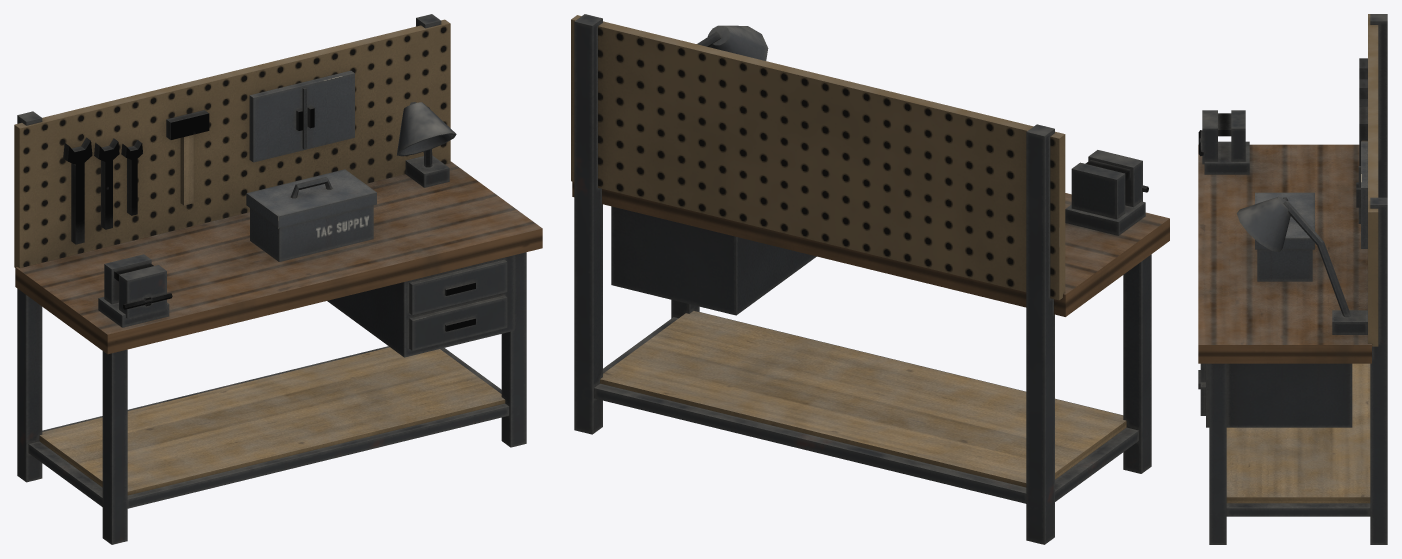
The model's file is W2_Workbench.fbx.
3 renders of one model, left to right at view 1: azimuth 30°, elevation 25°; view 2: azimuth 150°, elevation 25°; view 3: azimuth 270°, elevation 25°, orthographic. The views are drawn at different scales.
Visible parts, largest first — view 1: W2_Workbench; view 2: W2_Workbench; view 3: W2_Workbench.
Boxes of the visible parts, x1=… form: W2_Workbench: x1=14, y1=14, x2=542, y2=544; W2_Workbench: x1=571, y1=14, x2=1169, y2=544; W2_Workbench: x1=1198, y1=14, x2=1387, y2=544.
Bounding box in the file's own units: 600 × 475 × 240.
1 material, 1 textured.
